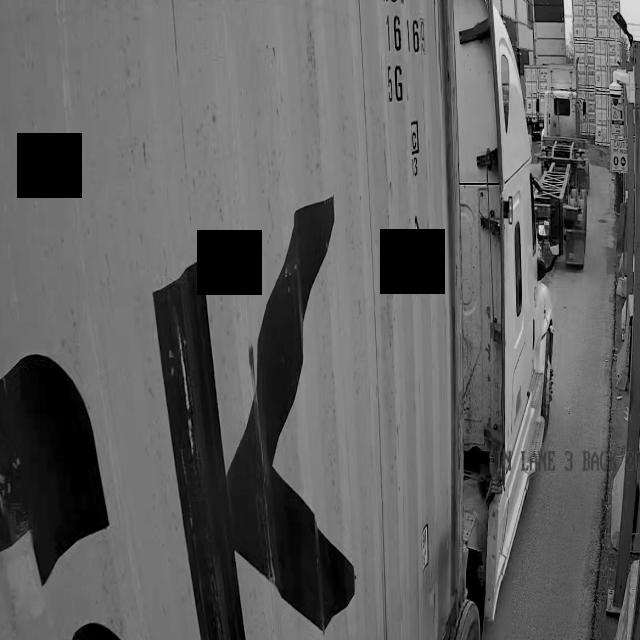container_side_no: (379, 0, 432, 112)
truck_with_container: (0, 0, 562, 640)
truck_without_container: (535, 128, 590, 268), (545, 89, 577, 128)
